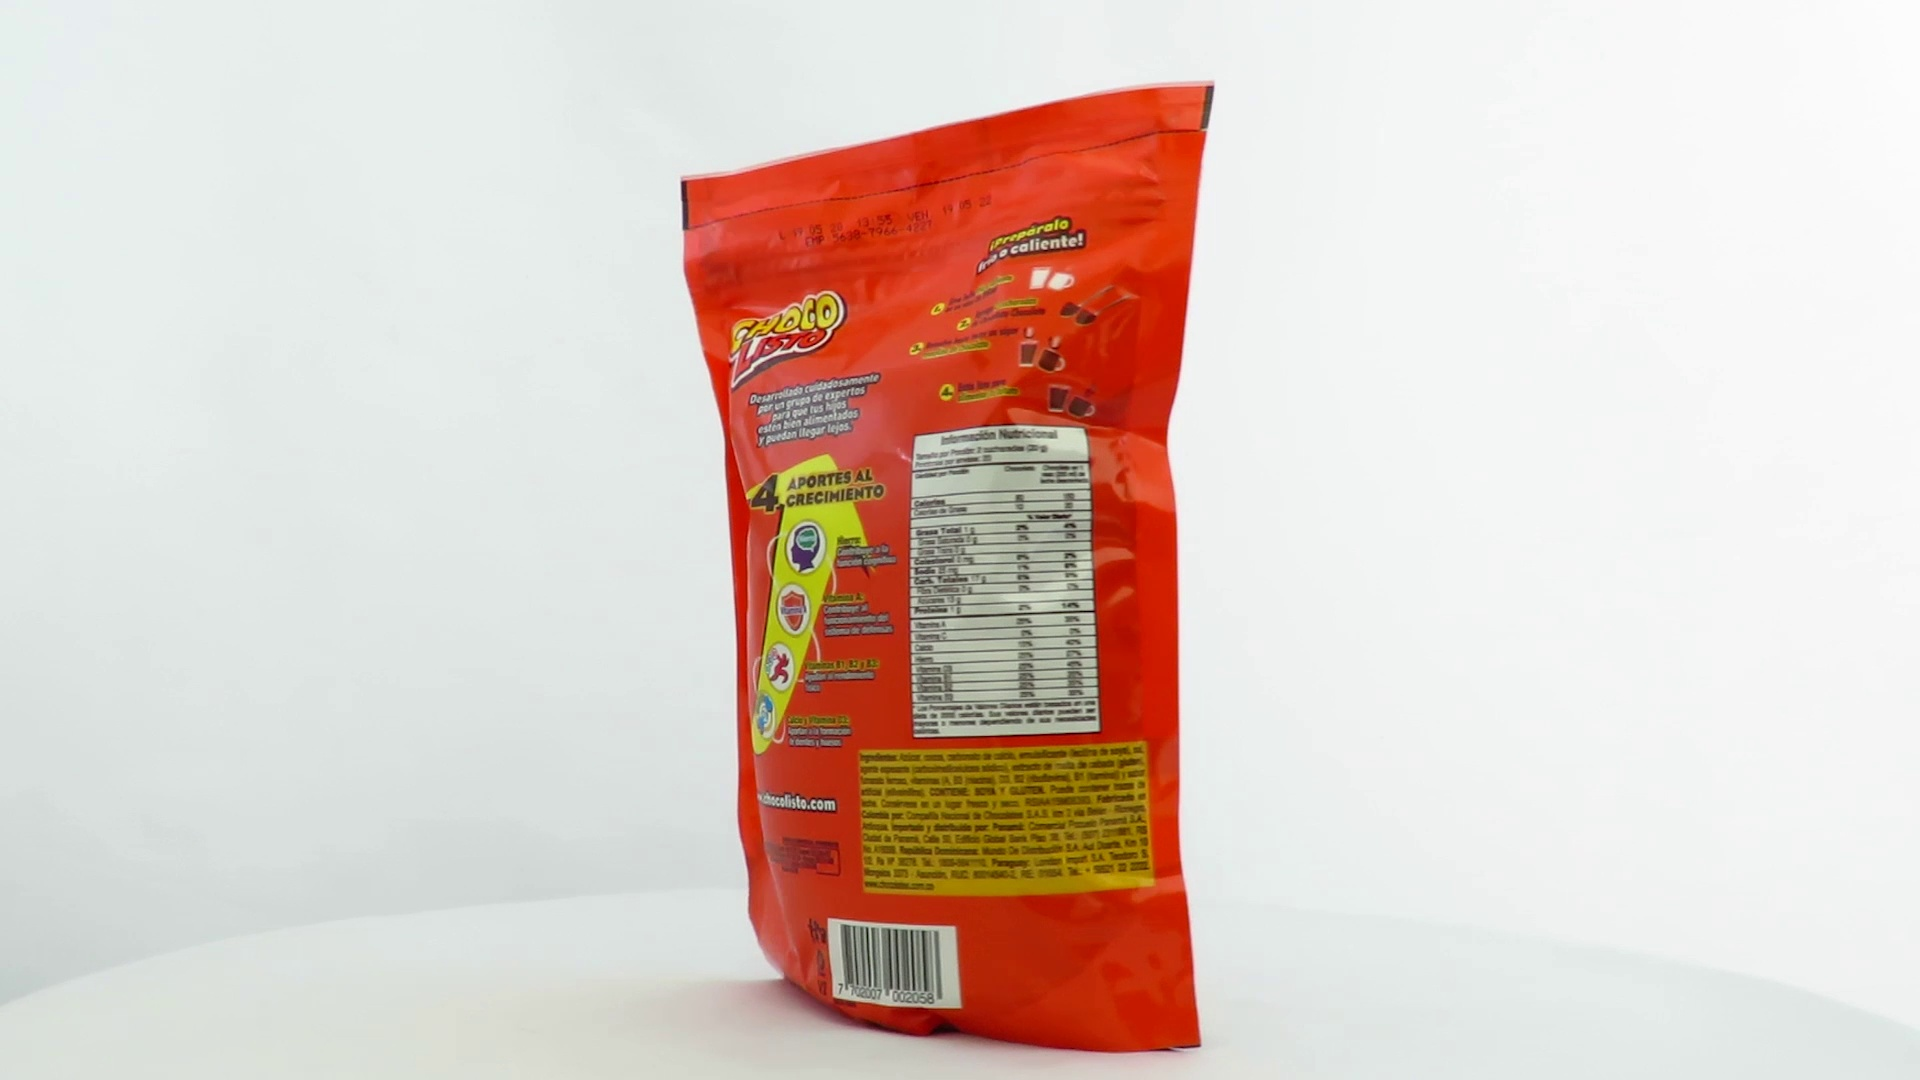COL0170103DYP40000: (675, 75, 1221, 1062)
